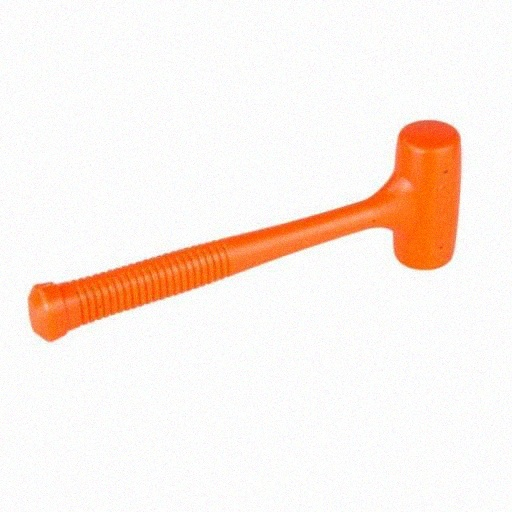mallet: (28, 121, 462, 341)
